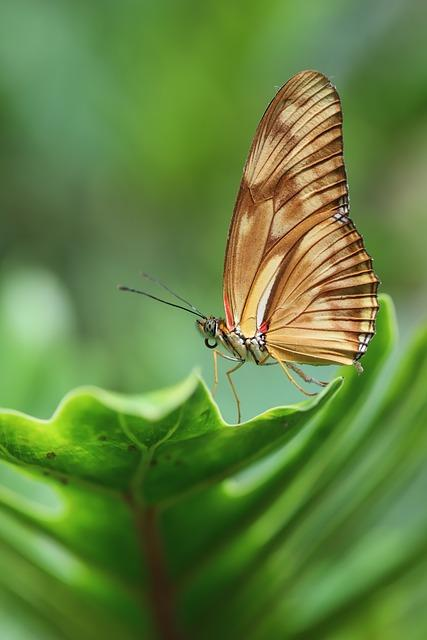Non_Gorille: (0, 0, 427, 628)
